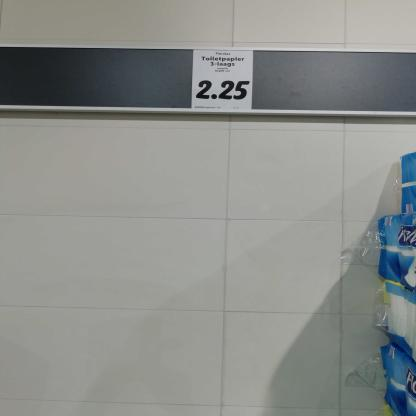prtg: (192, 51, 254, 111)
